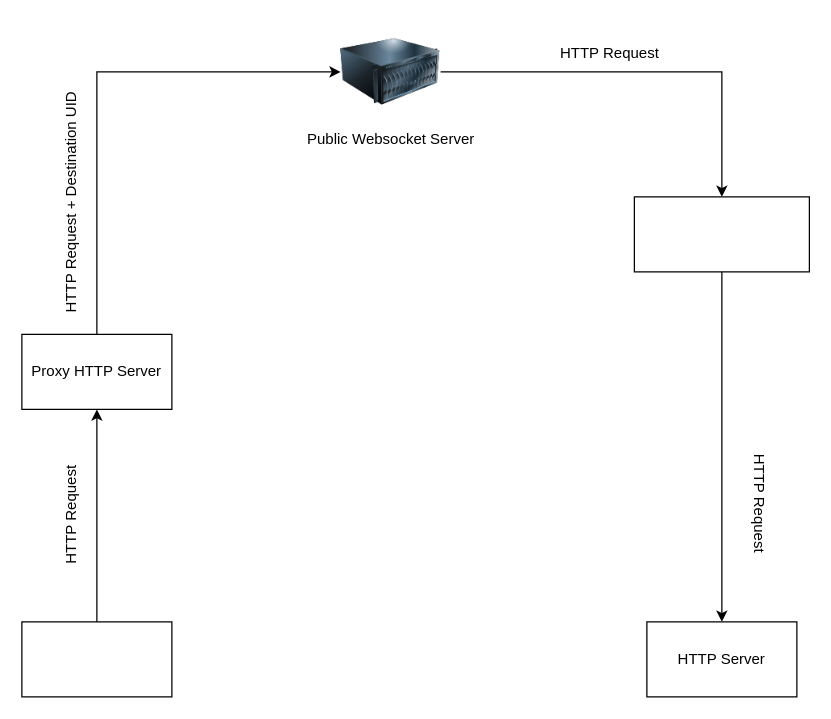
The diagram is 831 pixels wide and 719 high, and some of its shapes have lost their labels. Each missing label, with the centre of its shape:
"HTTP Consumer" belongs at (96,659).
"Proxy HTTP Consumer" belongs at (721,234).
